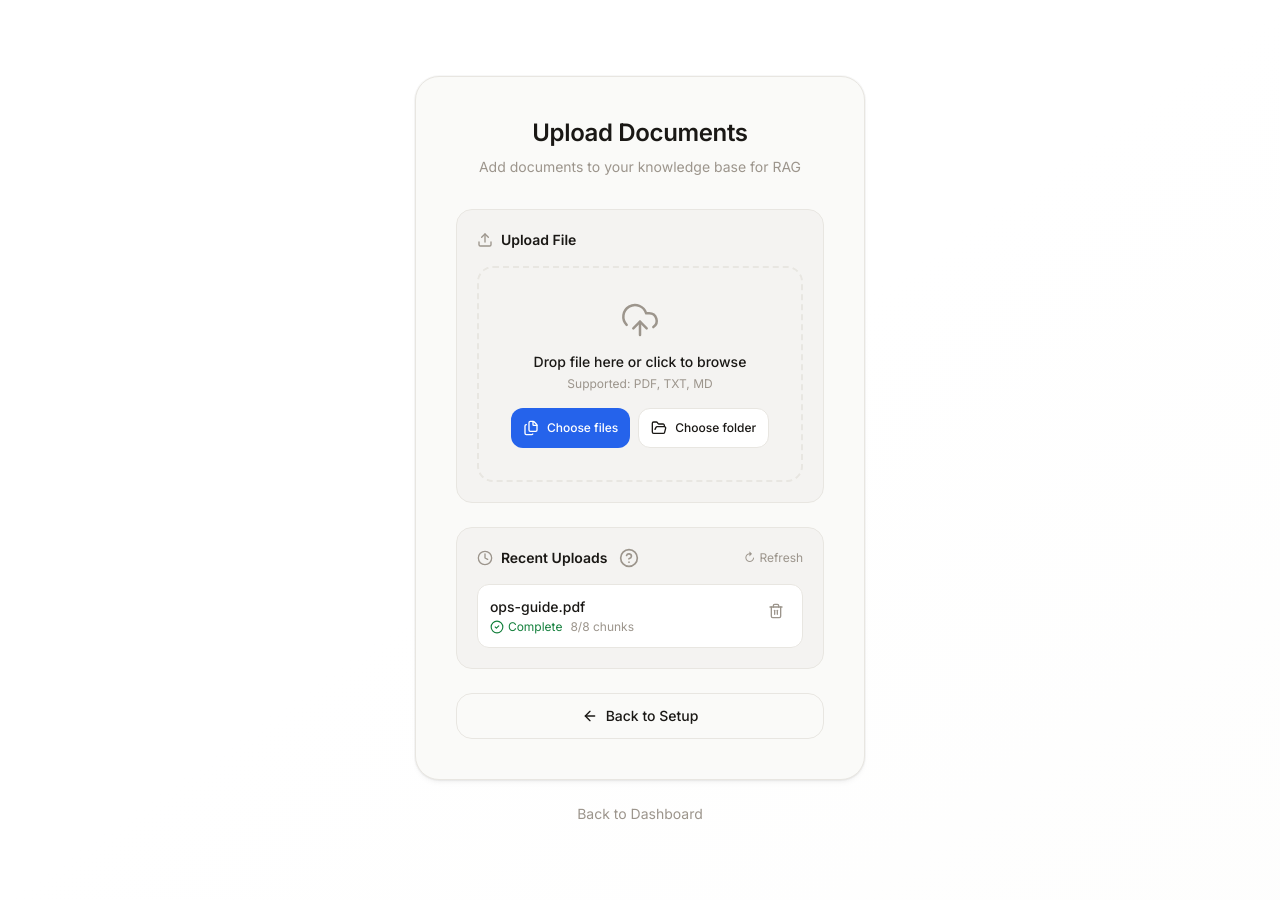
Scenario: AdminDocumentUpload › shows Document deletion failures as a named error note
This screenshot has width=1280, height=900.
Expected: the text "ops-guide.pdf" is shown, [490, 598, 585, 615]
Click the button named "Delete document": (776, 611) [762, 597, 790, 625]
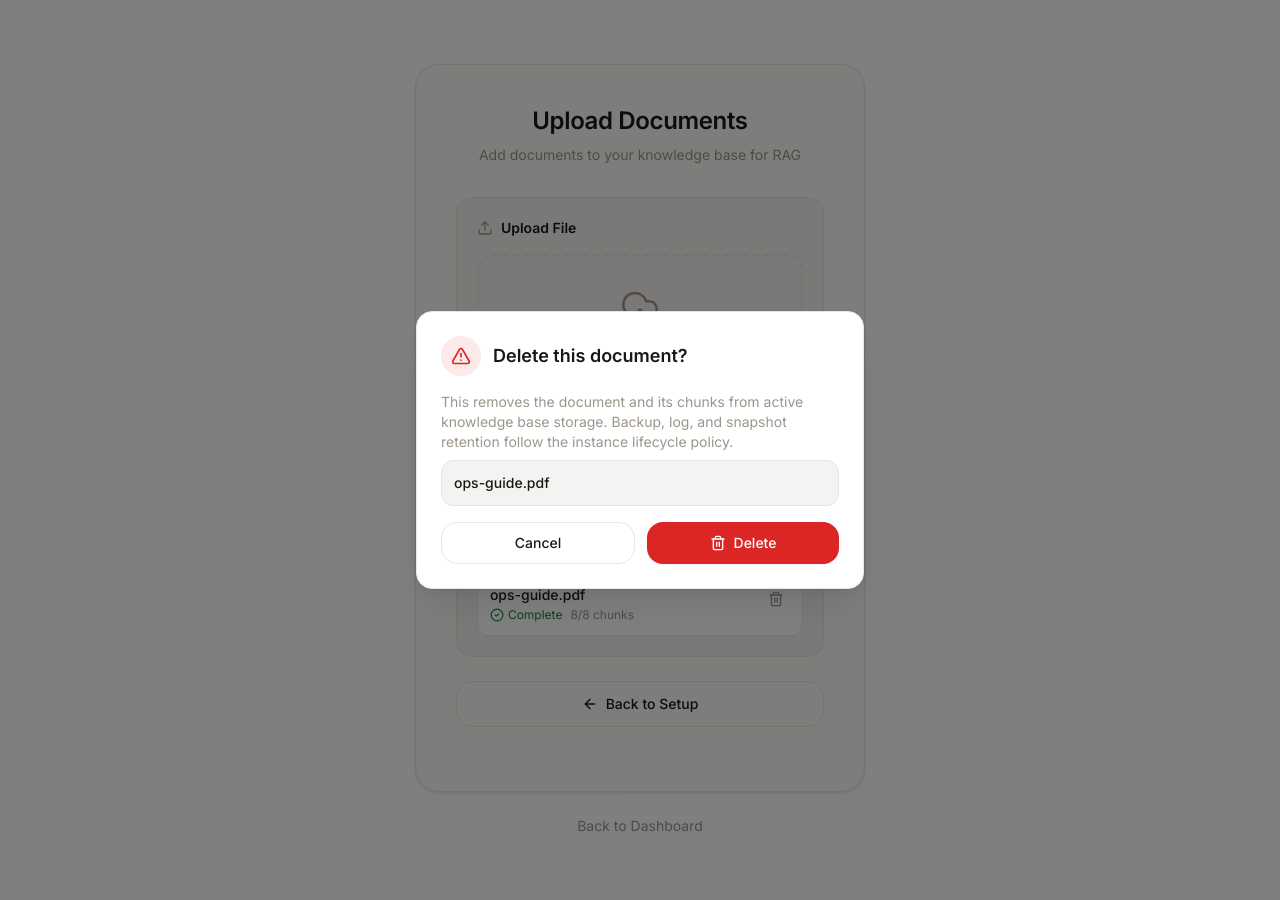
Click the button "Delete": (743, 543) [647, 522, 839, 564]
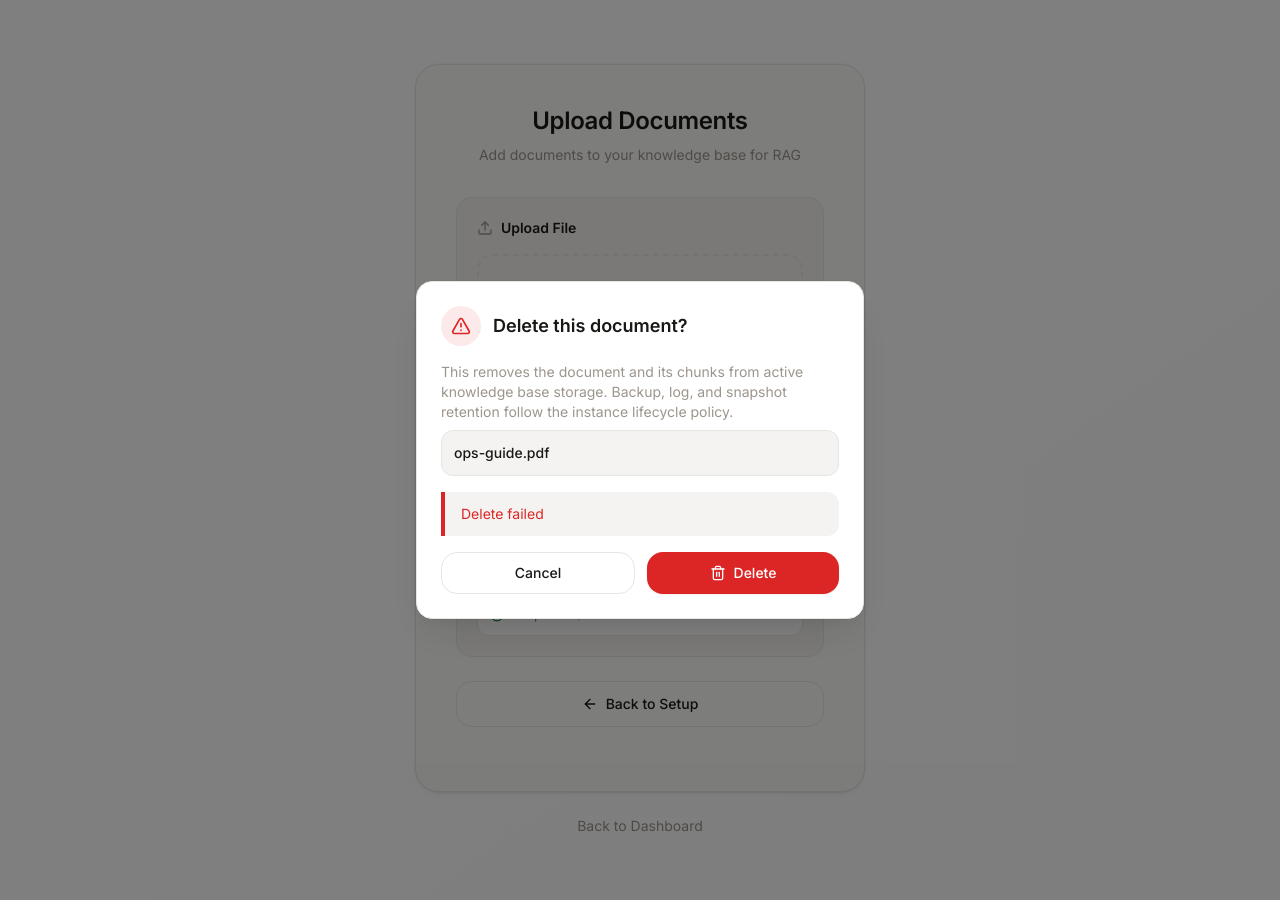
Now the element named "Document deletion error" reads "Delete failed", box [461, 505, 544, 522]
